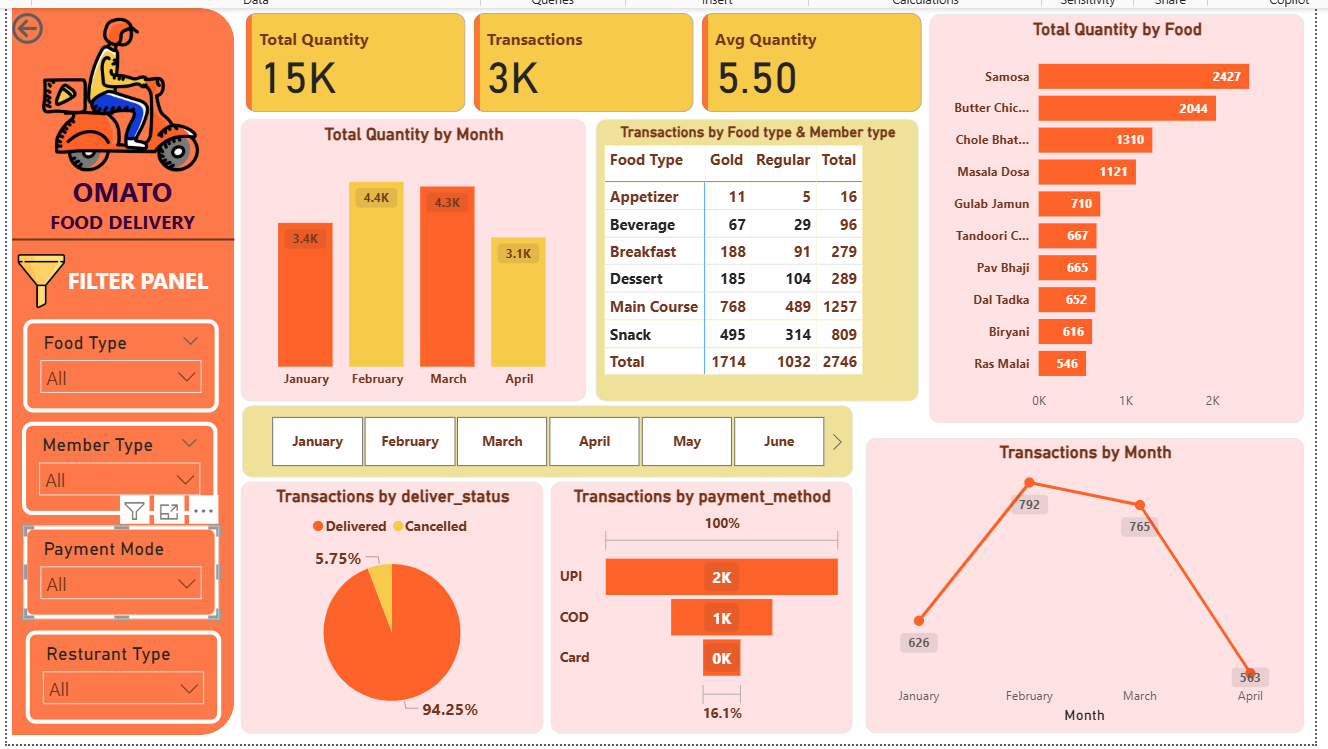

What the dashboard file says about the page in this screenshot:
{"tool":"powerbi","page":{"name":"Page 1","canvas":[1280,720],"ordinal":0},"visuals":[{"type":"shape","box":[5,0,217.5,711.2],"z":0},{"type":"image","box":[18.8,0,185,170],"z":1000},{"type":"textbox","box":[22.5,156.2,187.5,72.5],"z":2000},{"type":"shape","box":[5,187.5,217.5,78.8],"z":3000},{"type":"cardVisual","fields":{"Data":["Sales Data.Total Quantity","Sales Data.Transactions","Sales Data.Avg Quantity"]},"box":[228.8,0,673.8,107.5],"z":4000},{"type":"clusteredColumnChart","fields":{"Y":["Sales Data.Total Quantity"],"Category":["Sales Data.orderDate.Variation.Date Hierarchy.Month"]},"box":[228.8,108.8,337.5,276.2],"z":5000},{"type":"pivotTable","title":"Transactions by Food type & Member type","fields":{"Rows":["Food_Details.Type"],"Columns":["Customer Details.member_Type"],"Values":["Sales Data.Transactions"]},"box":[576.2,108.8,316.2,276.2],"z":6000},{"type":"pieChart","fields":{"Category":["Sales Data.deliver_status"],"Y":["Sales Data.Transactions"]},"box":[228.8,463.8,296.2,246.2],"z":7000},{"type":"funnel","fields":{"Category":["Sales Data.payment_method"],"Y":["Sales Data.Transactions"]},"box":[532.5,463.8,295,246.2],"z":8000},{"type":"clusteredBarChart","fields":{"Y":["Sales Data.Total Quantity"],"Category":["Food_Details.Food"]},"box":[902.5,6.2,366.2,400],"z":9000},{"type":"lineChart","fields":{"Y":["Sales Data.Transactions"],"Category":["Sales Data.orderDate.Variation.Date Hierarchy.Year","Sales Data.orderDate.Variation.Date Hierarchy.Month"]},"box":[840,421.2,428.8,288.8],"z":10000},{"type":"slicer","fields":{"Values":["Resturant_Details.Resturant_type"]},"box":[18.8,608.8,191.2,91.2],"z":11000},{"type":"slicer","fields":{"Values":["Food_Details.Type"]},"box":[16.2,305,191.2,91.2],"z":12000},{"type":"slicer","fields":{"Values":["Customer Details.member_Type"]},"box":[15,405,191.2,91.2],"z":13000},{"type":"slicer","fields":{"Values":["Sales Data.payment_method"]},"box":[16.2,506.2,191.2,91.2],"z":14000},{"type":"actionButton","box":[0,0,100,40],"z":15000},{"type":"slicer","fields":{"Values":["Sales Data.orderDate.Variation.Date Hierarchy.Month"]},"box":[230,388.8,597.5,70],"z":16000},{"type":"image","box":[2.5,236.2,62.5,62.5],"z":17000},{"type":"textbox","box":[33.8,247.5,187.5,38.8],"z":18000}]}

Visuals, with their boxes in screenshot pixels (x1, y1, x2, y2):
shape: <bbox>5, 21, 228, 748</bbox>
image: <bbox>19, 21, 209, 195</bbox>
textbox: <bbox>23, 181, 215, 255</bbox>
shape: <bbox>5, 213, 228, 293</bbox>
cardVisual - Sales Data.Total Quantity x Sales Data.Transactions: <bbox>234, 21, 924, 131</bbox>
clusteredColumnChart - Sales Data.Total Quantity x Sales Data.orderDate.Variation.Date Hierarchy.Month: <bbox>234, 132, 579, 415</bbox>
"Transactions by Food type & Member type" pivotTable: <bbox>590, 132, 913, 415</bbox>
pieChart - Sales Data.deliver_status x Sales Data.Transactions: <bbox>234, 495, 537, 747</bbox>
funnel - Sales Data.payment_method x Sales Data.Transactions: <bbox>545, 495, 847, 747</bbox>
clusteredBarChart - Sales Data.Total Quantity x Food_Details.Food: <bbox>923, 27, 1298, 436</bbox>
lineChart - Sales Data.Transactions x Sales Data.orderDate.Variation.Date Hierarchy.Year: <bbox>859, 452, 1298, 747</bbox>
slicer - Resturant_Details.Resturant_type: <bbox>19, 644, 215, 737</bbox>
slicer - Food_Details.Type: <bbox>17, 333, 212, 426</bbox>
slicer - Customer Details.member_Type: <bbox>15, 435, 211, 528</bbox>
slicer - Sales Data.payment_method: <bbox>17, 539, 212, 632</bbox>
actionButton: <bbox>0, 21, 102, 62</bbox>
slicer - Sales Data.orderDate.Variation.Date Hierarchy.Month: <bbox>235, 419, 847, 490</bbox>
image: <bbox>3, 262, 67, 326</bbox>
textbox: <bbox>35, 274, 226, 314</bbox>
